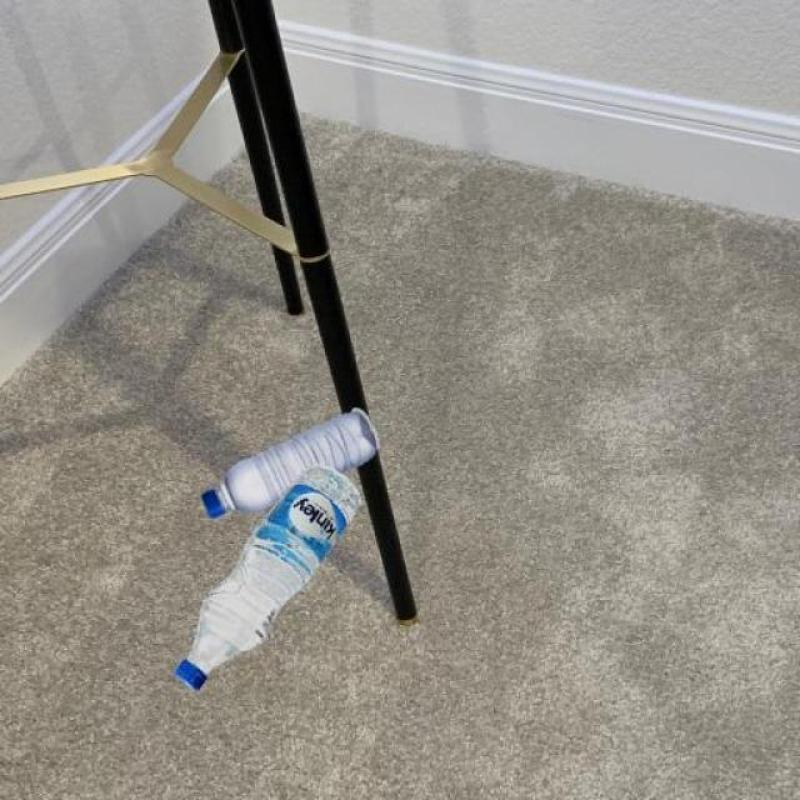botella: (173, 465, 362, 690), (200, 410, 380, 518)
